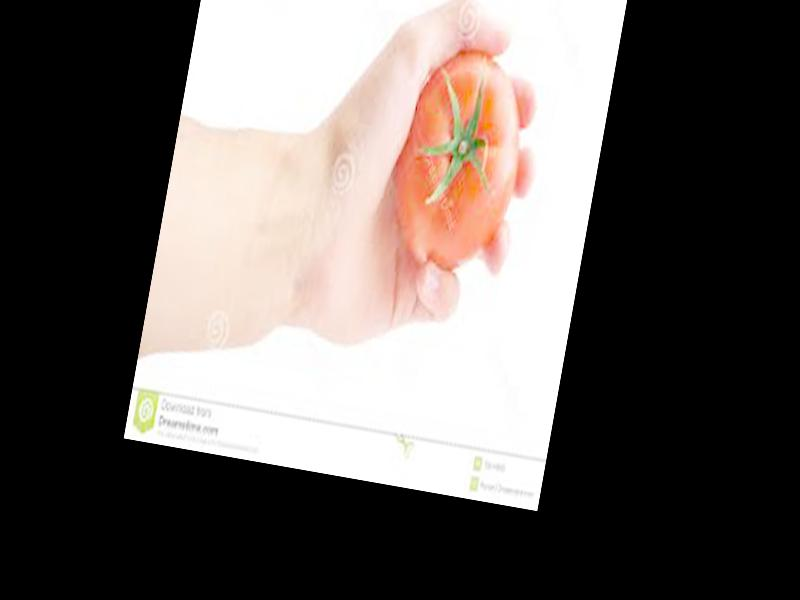Tomato: (383, 46, 535, 280)
